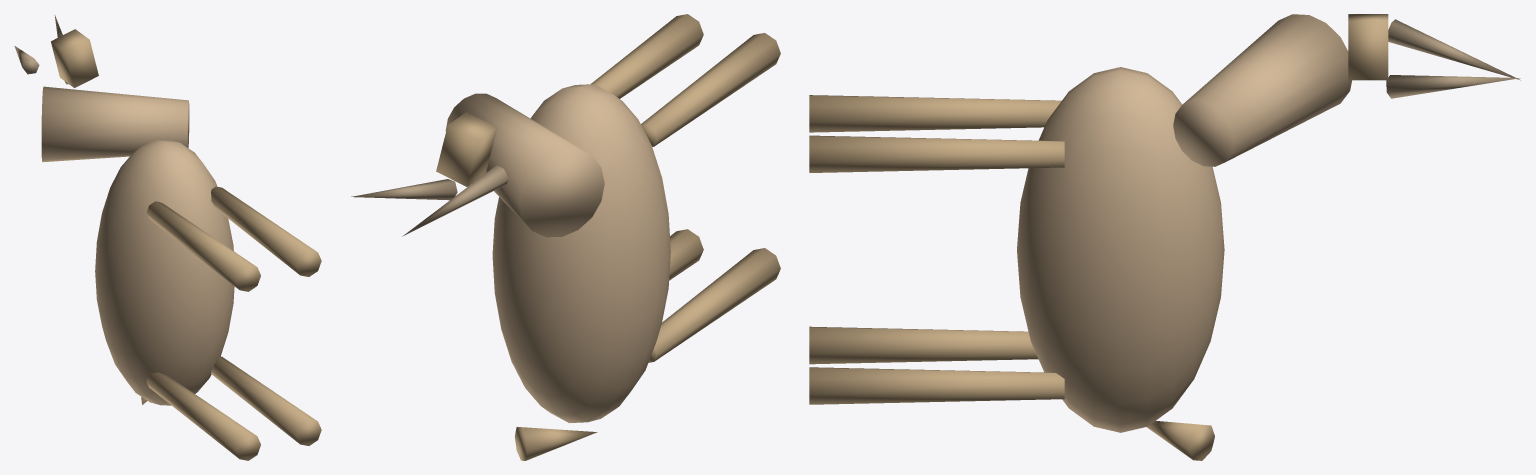
Rendered from deer.glb.
3 renders of one model, left to right at view 1: azimuth 30°, elevation 25°; view 2: azimuth 150°, elevation 25°; view 3: azimuth 270°, elevation 25°, orthographic. The views are drawn at different scales.
Visible parts, largest first — view 1: body, neck, leg_0, leg_2, leg_1, leg_3, head, antler0; view 2: body, neck, leg_0, leg_2, leg_1, head, tail, antler0, antler1, leg_3; view 3: body, neck, leg_1, leg_3, leg_0, leg_2, head, antler0, antler1, tail.
Boxes of the visible parts, x1,y1,x2,y2 form: body: (95, 139, 234, 405); neck: (41, 86, 189, 162); leg_0: (146, 201, 260, 291); leg_2: (146, 372, 260, 460); leg_1: (211, 186, 321, 276); leg_3: (211, 356, 321, 445); head: (51, 29, 98, 87); antler0: (14, 46, 39, 74); body: (492, 84, 670, 422); neck: (445, 93, 604, 237); leg_0: (641, 33, 780, 146); leg_2: (648, 248, 780, 362); leg_1: (591, 14, 703, 98); head: (436, 112, 497, 186); tail: (514, 427, 597, 460); antler0: (402, 165, 508, 236); antler1: (351, 179, 457, 200); leg_3: (669, 229, 703, 280); body: (1017, 67, 1224, 432); neck: (1173, 14, 1351, 166); leg_1: (809, 135, 1064, 172); leg_3: (809, 367, 1064, 404); leg_0: (809, 95, 1061, 132); leg_2: (809, 326, 1038, 364); head: (1348, 14, 1388, 80); antler0: (1388, 19, 1520, 80); antler1: (1386, 75, 1520, 98); tail: (1147, 421, 1214, 460).
Size of the model in its own units: 0.5406 by 1.19 by 1.78.
